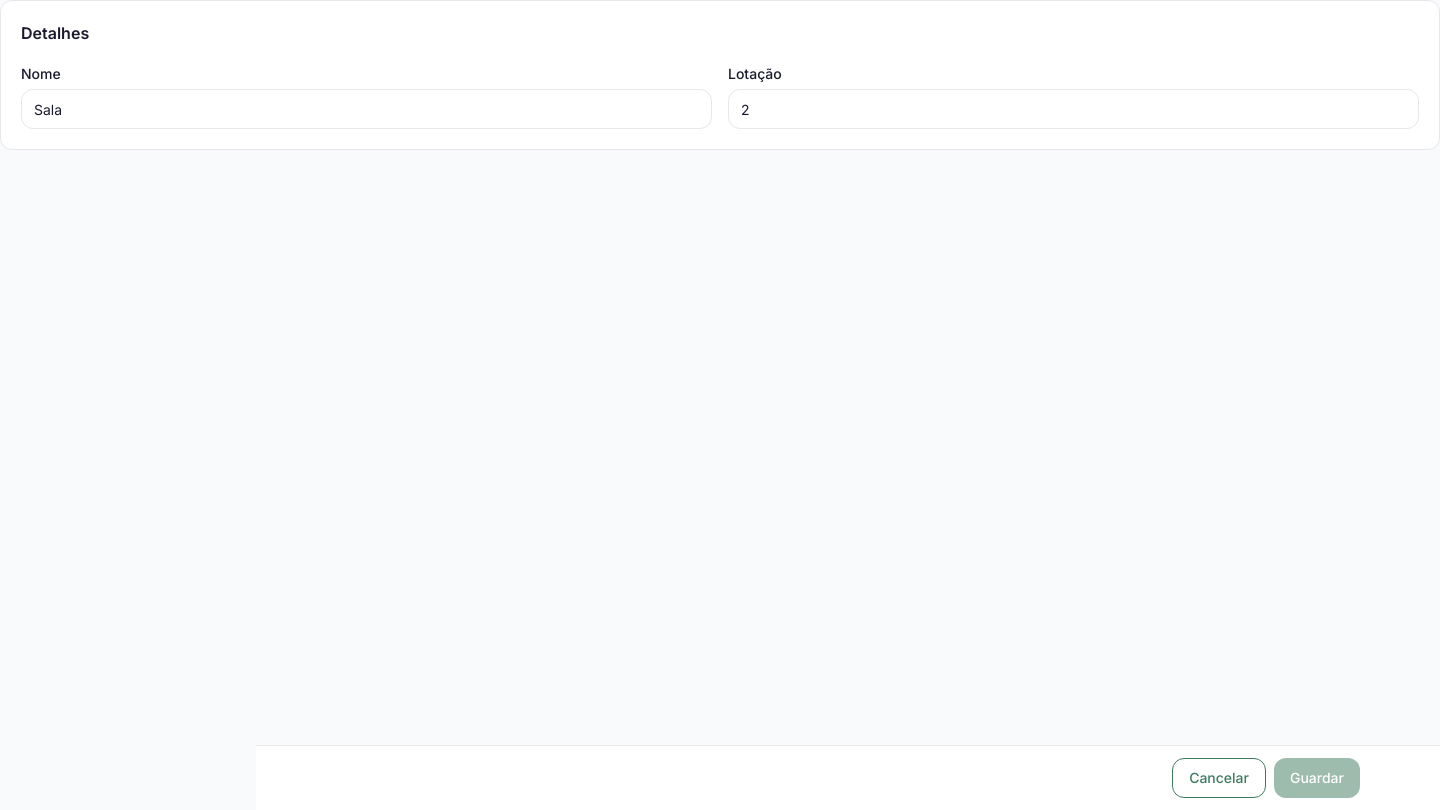
EntityForm › maps a 422 to the field and a 409 to a banner with the blockers
Replace the text in the number field labelled "Lotação" with "0". click: (1074, 109)
box: x1=728 y1=89 x2=1419 y2=129
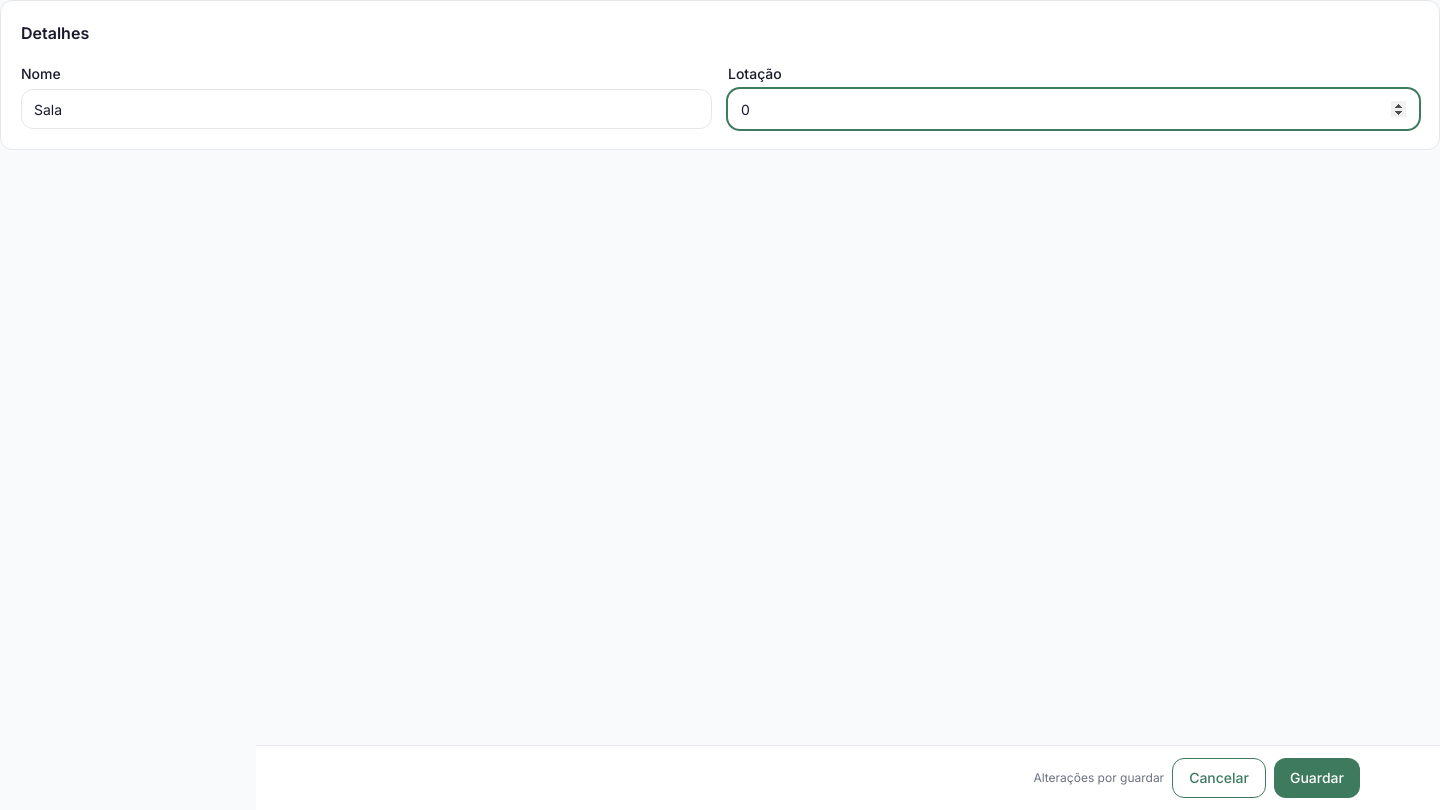
Click the button "Guardar". click: (1317, 778)
box: x1=1274 y1=758 x2=1360 y2=798
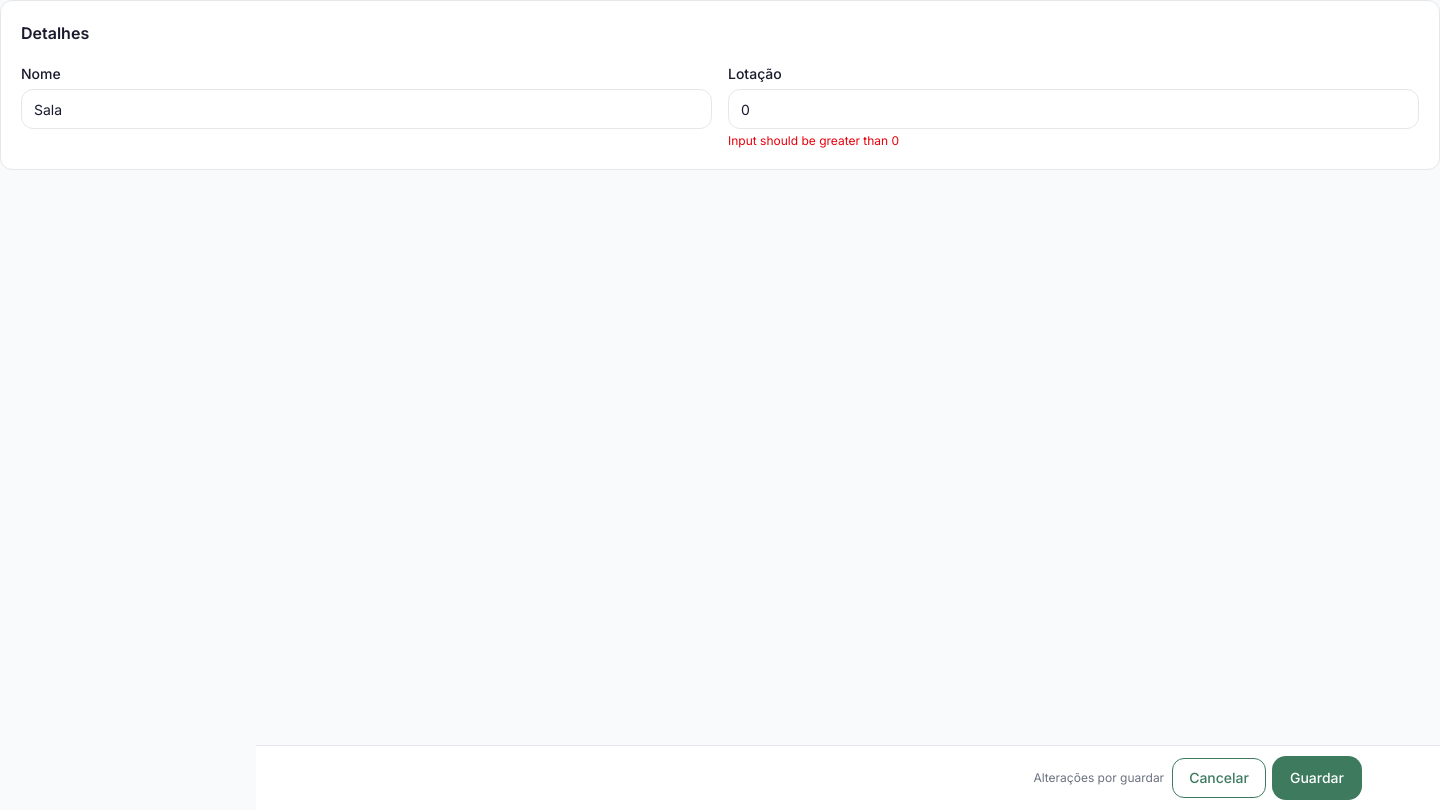
expect the text "Input should be greater than 0" is shown: met, box x1=728 y1=133 x2=899 y2=148
Type "1" into the number field labelled "Lotação". click: (1074, 109)
box: x1=728 y1=89 x2=1419 y2=129
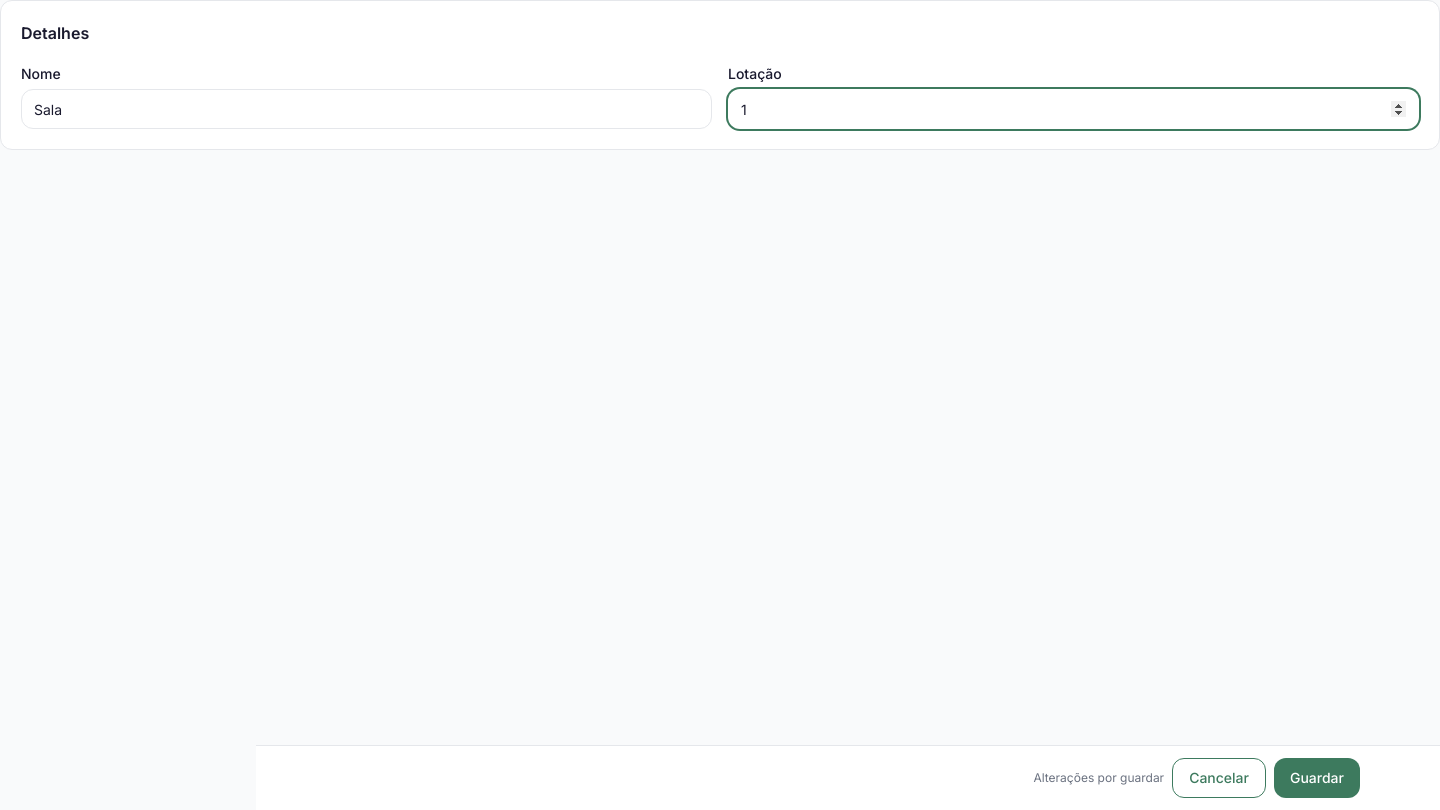
Click the button "Guardar". click: (1317, 778)
box: x1=1274 y1=758 x2=1360 y2=798
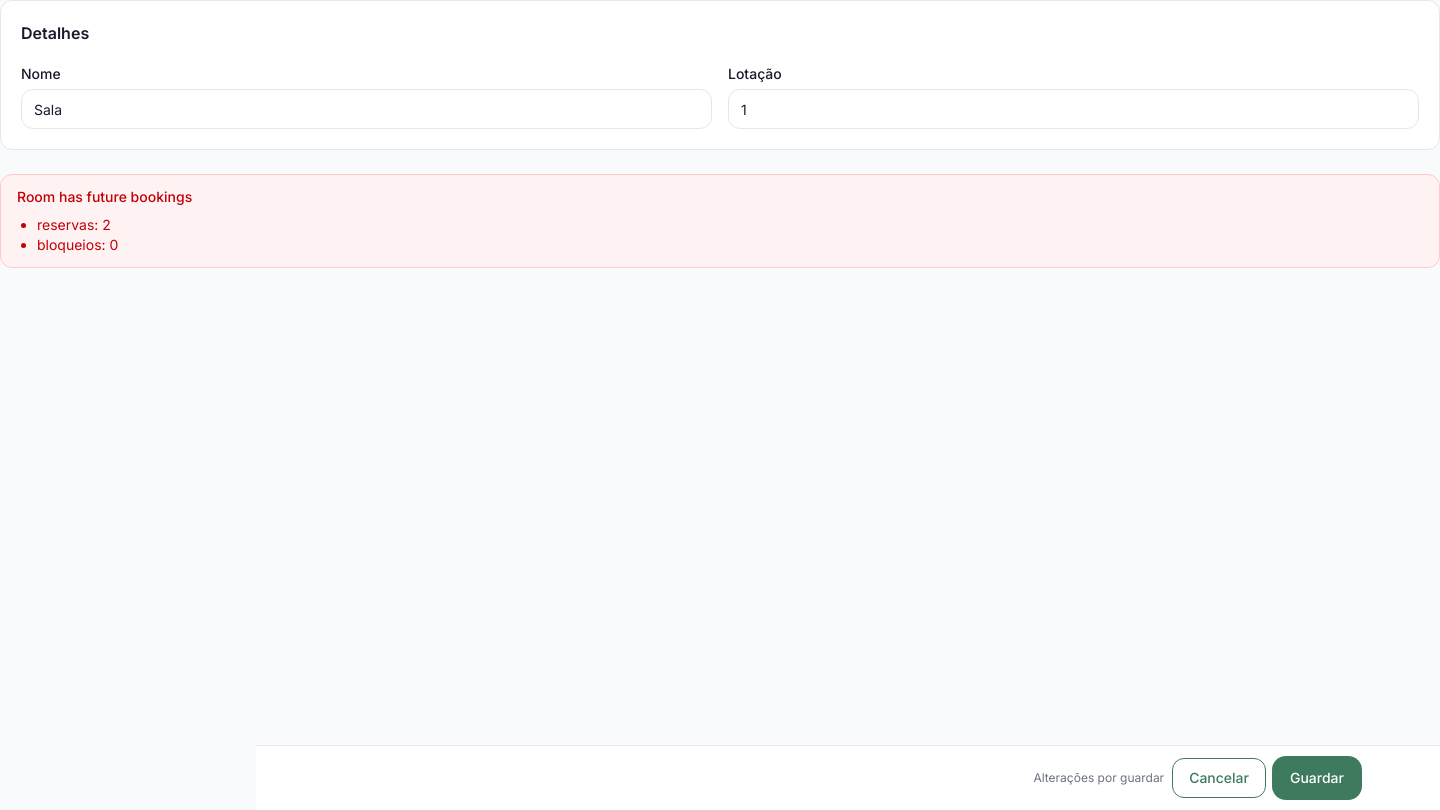
expect the text "Room has future bookings" shows "reservas: 2": met, box x1=37 y1=216 x2=111 y2=233
